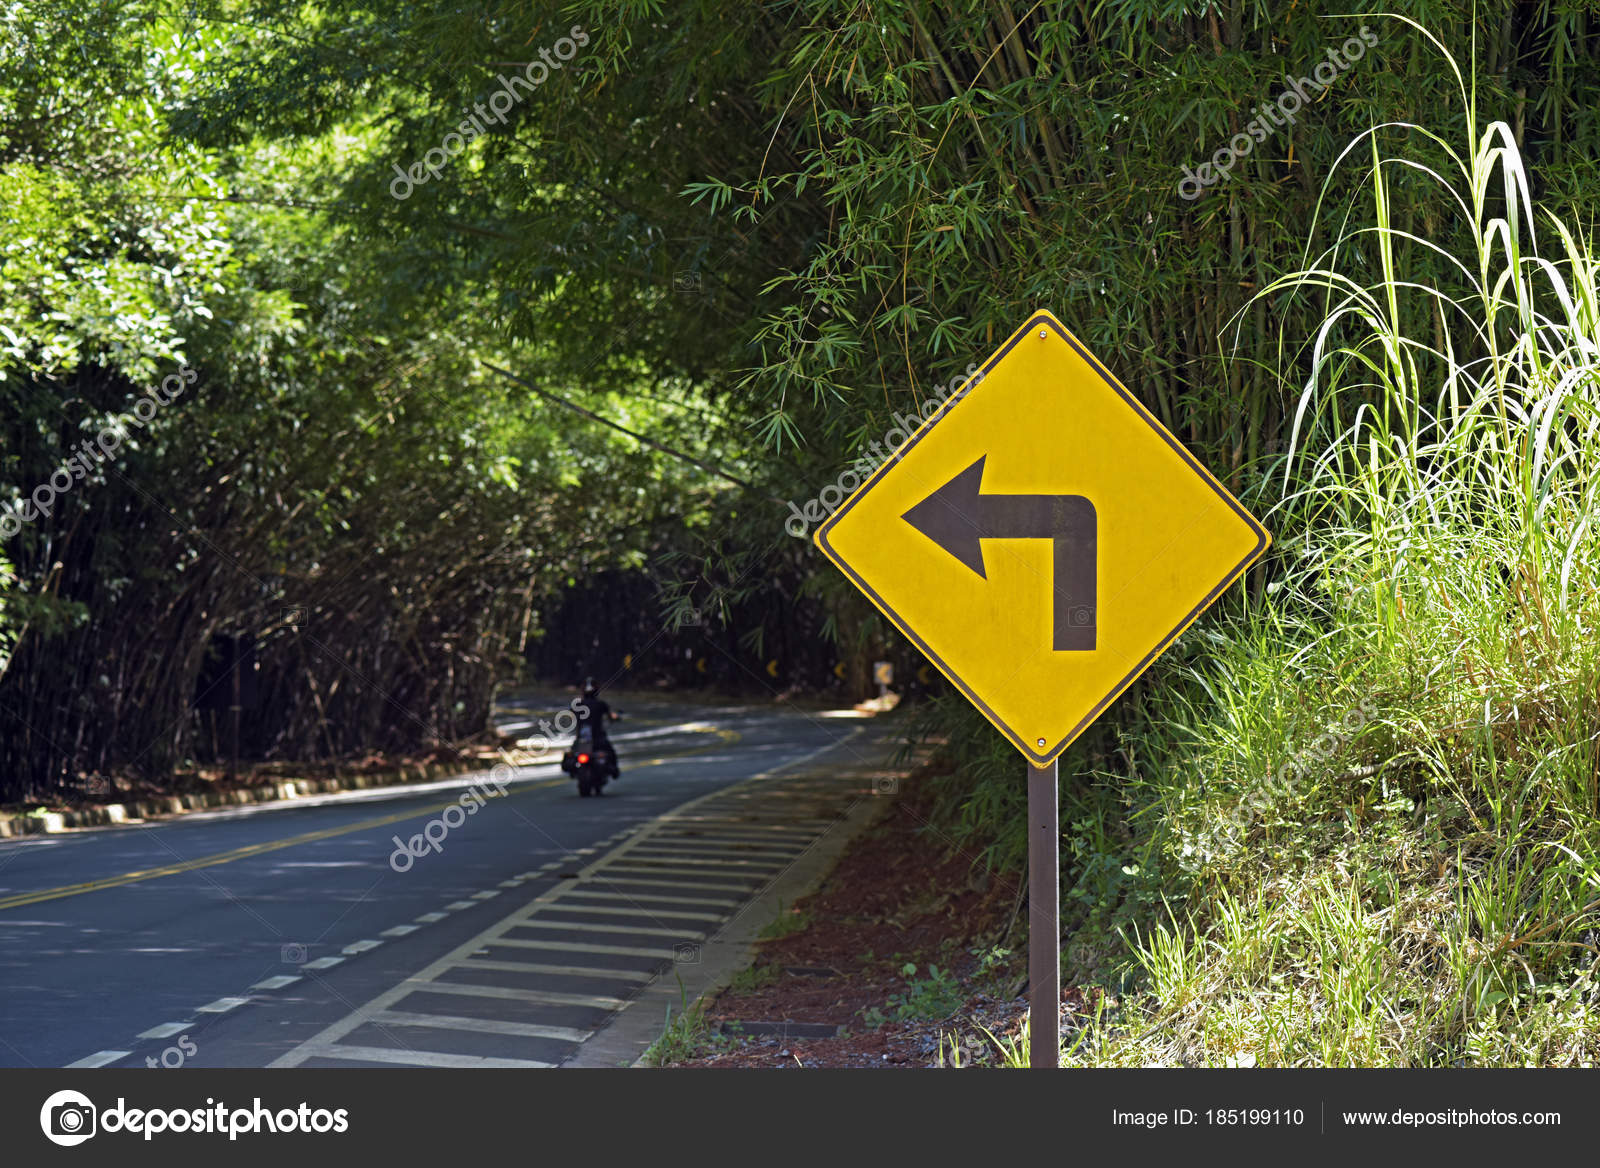left: (804, 304, 1284, 774)
